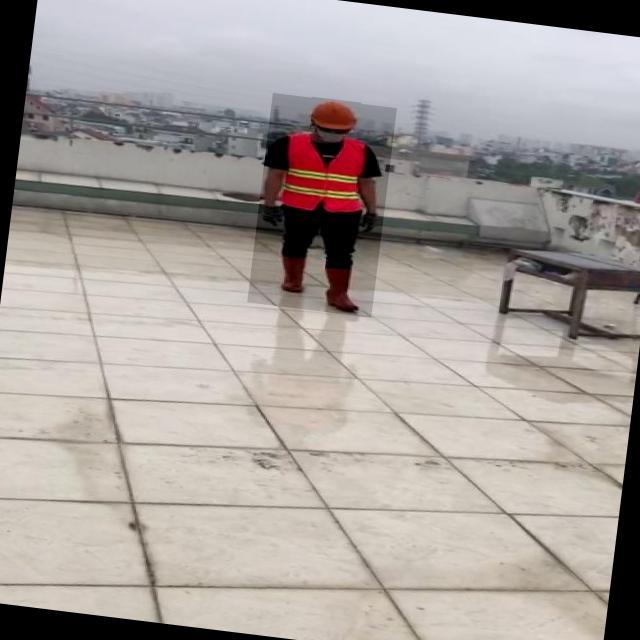Gloves: (260, 205, 290, 228), (360, 207, 379, 236)
Helmet: (308, 97, 361, 133)
Human: (247, 93, 398, 318)
Safety Boot: (321, 264, 364, 312), (276, 253, 310, 294)
Safety Vest: (279, 131, 371, 217)
